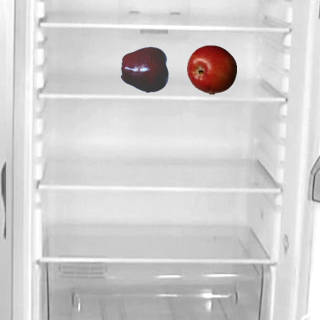Apple Braeburn: (186, 44, 236, 94)
Apple Red Delicious: (120, 44, 170, 94)
